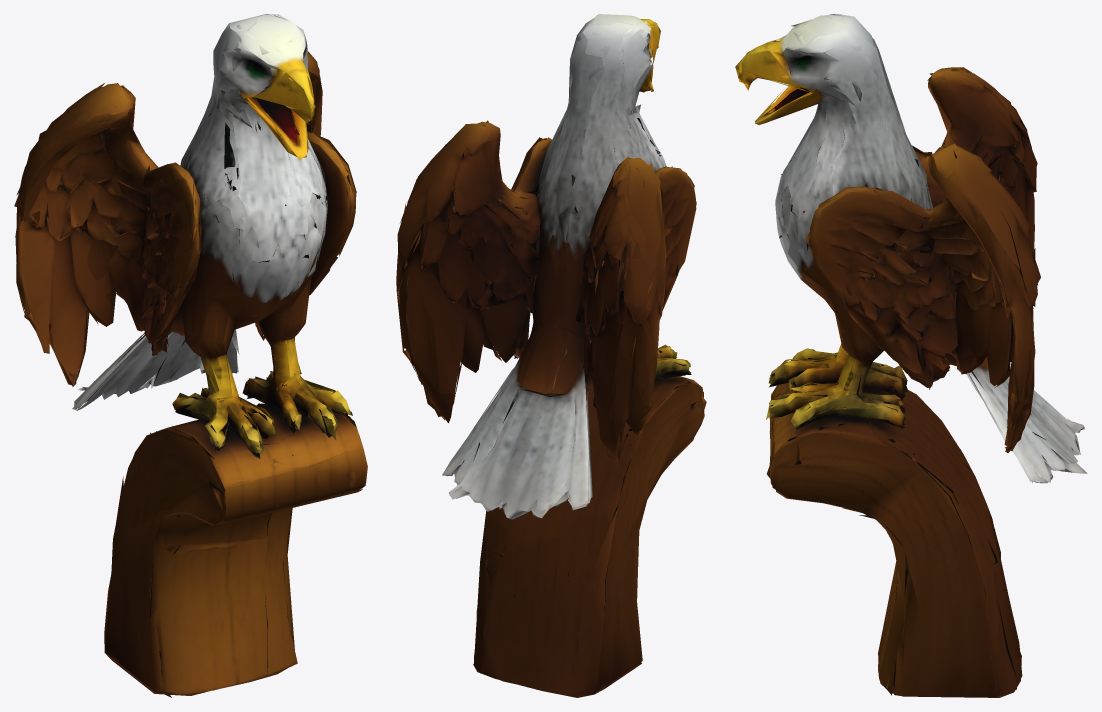
Rendered from figure_eagle.glb.
3 views of the same model, side by side, from view 1: azimuth 30°, elevation 25°; view 2: azimuth 150°, elevation 25°; view 3: azimuth 270°, elevation 25° (orthographic). The views are drawn at different scales.
Visible parts, largest first — view 1: Mesh_0; view 2: Mesh_0; view 3: Mesh_0.
Boxes of the visible parts, <box> form: Mesh_0: <box>14,14,367,697</box>; Mesh_0: <box>396,14,706,697</box>; Mesh_0: <box>735,14,1087,697</box>.
Bounding box in the file's own units: 1.19 × 2.61 × 1.29.
Materials: 1 (1 with a texture image).
